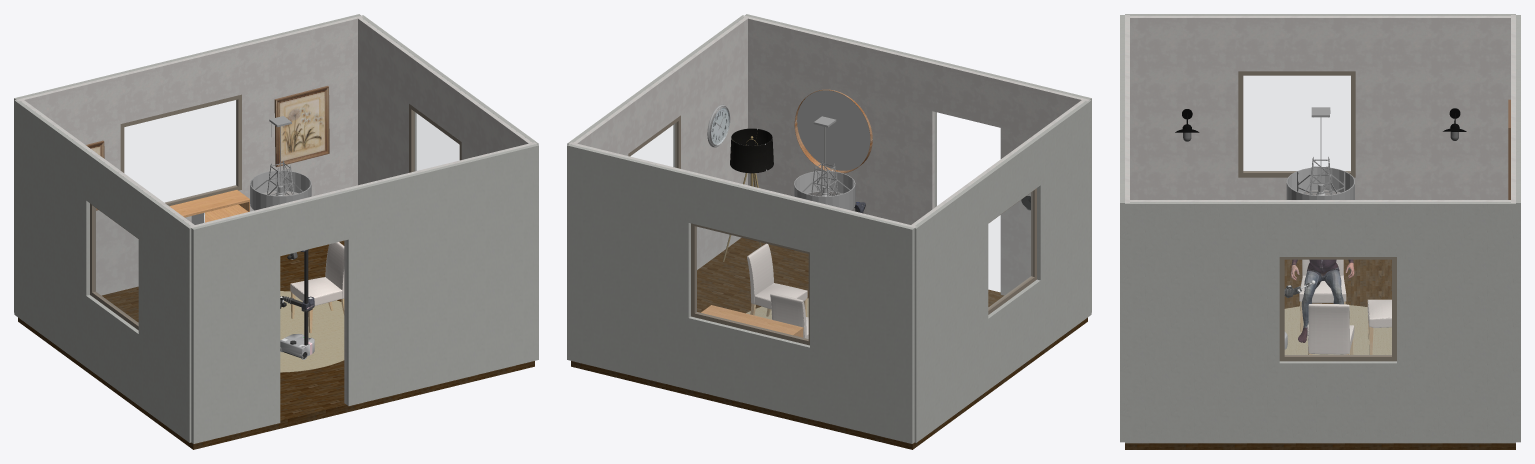
3 views of the same model, side by side, from view 1: azimuth 30°, elevation 25°; view 2: azimuth 150°, elevation 25°; view 3: azimuth 270°, elevation 25° (orthographic). The views are drawn at different scales.
Visible parts, largest first — view 1: world (×10), glass (×3), room_geometry_dining_room__v0, Shader1.001, dining_room_rug_0, frame (×3), P_a4732598bed78f1f.001, robot_Generic_Black, robot_Pantone_Cool_Gray_4_U; view 2: world (×14), glass (×3), room_geometry_dining_room__v0, frame (×3), P_a4732598bed78f1f.001; view 3: world (×12), glass (×2), room_geometry_dining_room__v0, frame (×2), dining_room_rug_0, base_link.
Boxes of the visible parts, bbox=[...] form: world (×10): bbox=[14, 14, 538, 443]; glass (×3): bbox=[94, 100, 459, 323]; room_geometry_dining_room__v0: bbox=[18, 240, 534, 449]; Shader1.001: bbox=[274, 86, 329, 167]; dining_room_rug_0: bbox=[280, 291, 344, 372]; frame (×3): bbox=[90, 94, 461, 329]; P_a4732598bed78f1f.001: bbox=[169, 190, 249, 217]; robot_Generic_Black: bbox=[280, 249, 308, 358]; robot_Pantone_Cool_Gray_4_U: bbox=[280, 254, 314, 357]; world (×14): bbox=[567, 14, 1091, 443]; glass (×3): bbox=[631, 123, 1032, 339]; room_geometry_dining_room__v0: bbox=[571, 237, 1087, 449]; frame (×3): bbox=[628, 115, 1036, 345]; P_a4732598bed78f1f.001: bbox=[701, 305, 803, 337]; world (×12): bbox=[1120, 14, 1520, 443]; glass (×2): bbox=[1243, 76, 1391, 355]; room_geometry_dining_room__v0: bbox=[1125, 259, 1515, 449]; frame (×2): bbox=[1238, 71, 1396, 361]; dining_room_rug_0: bbox=[1284, 305, 1391, 354]; base_link: bbox=[1307, 259, 1339, 280].
Bounding box in the file's own units: 4.6 × 2.8 × 4.1.
44 materials, 16 textured.
